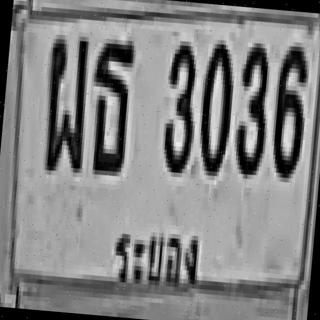A24: (84, 33, 135, 172)
A28: (39, 31, 90, 170)
N00: (195, 34, 235, 172)
N03: (158, 35, 200, 174), (232, 38, 272, 176)
N06: (267, 41, 309, 174)
P53: (110, 225, 206, 296)
